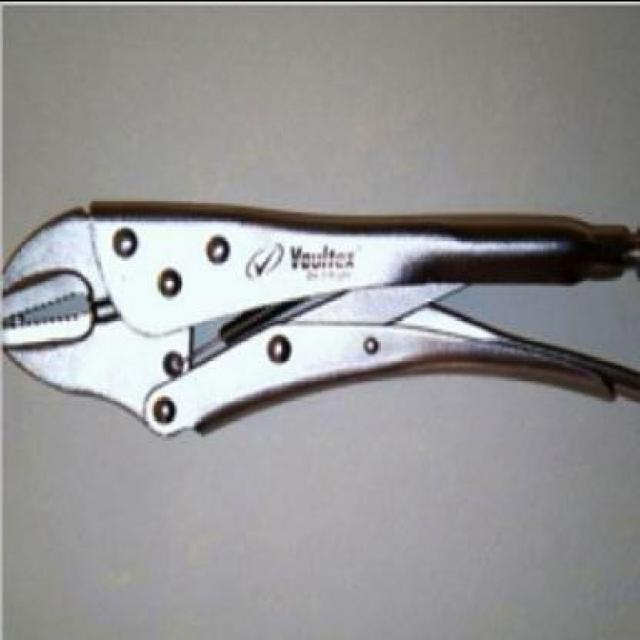pliers: (3, 188, 639, 440)
